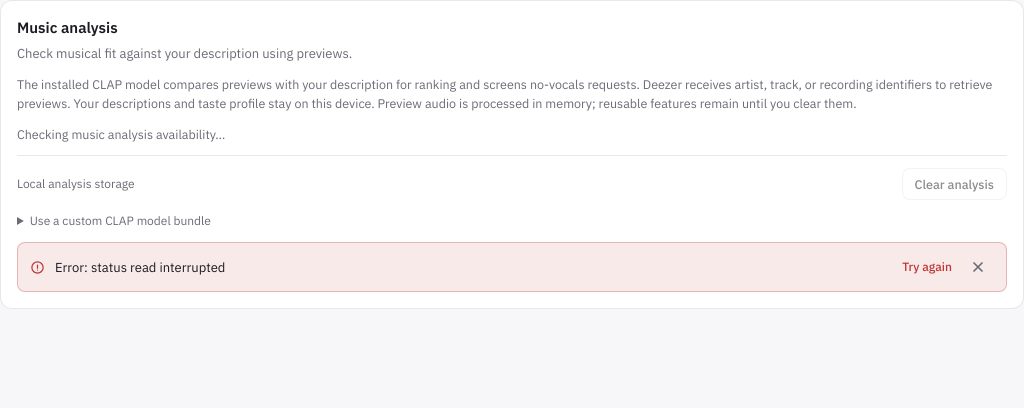
Test: can retry a failed music model status poll
Click the button "Try again".
click(927, 267)  # box [902, 258, 952, 276]
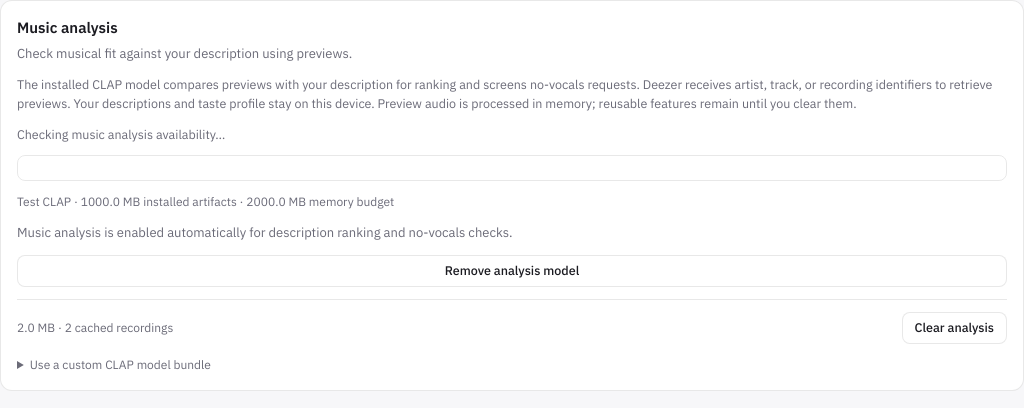
Check: the message "Error: status read interrupted Try again" is gone
